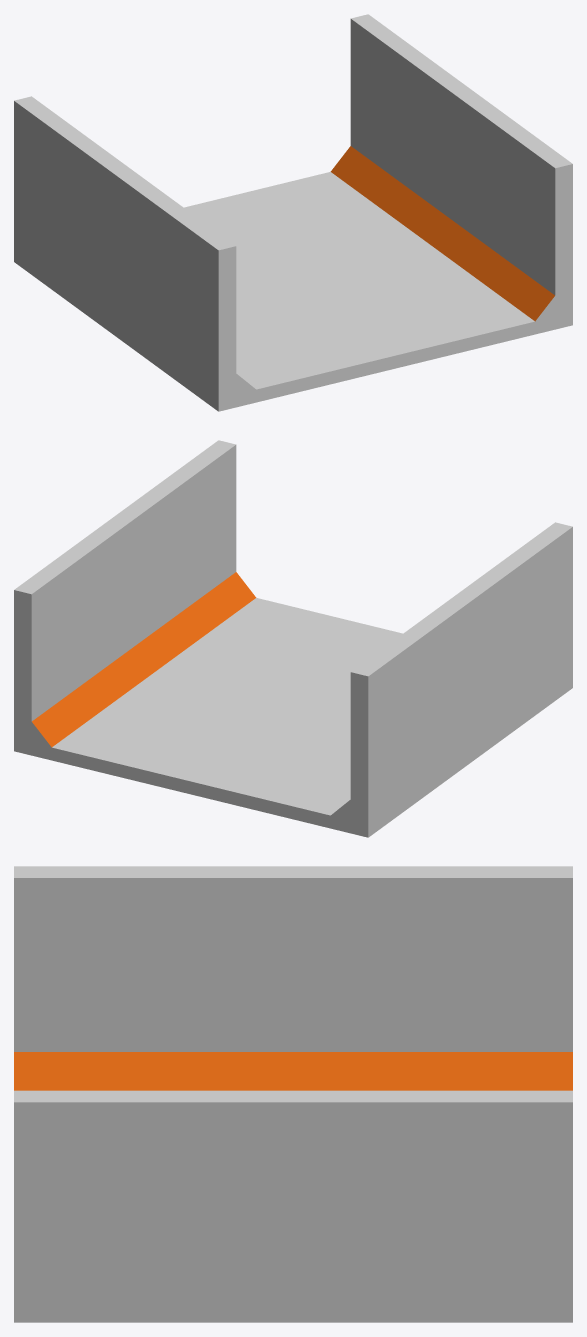
File: 2-wall.fbx
3 renders of one model, top to bottom at view 1: azimuth 30°, elevation 25°; view 2: azimuth 150°, elevation 25°; view 3: azimuth 270°, elevation 25°, orthographic. The views are drawn at different scales.
Parts seen in each view (by area): view 1: Плоскость.014; view 2: Плоскость.014; view 3: Плоскость.014.
Boxes of the visible parts, x1,y1,x2,y2 form: Плоскость.014: [14, 14, 572, 411]; Плоскость.014: [14, 440, 572, 837]; Плоскость.014: [14, 866, 572, 1322].
Bounding box in the file's own units: 200 × 87 × 200.
